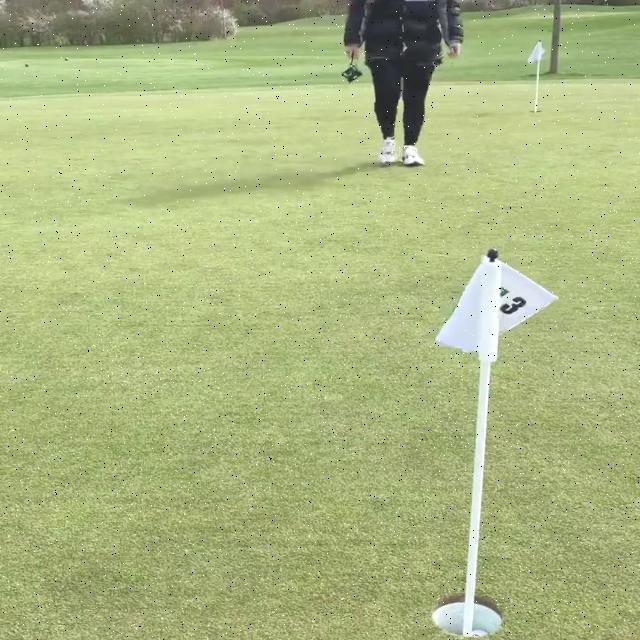ClubHead: (341, 66, 362, 84)
